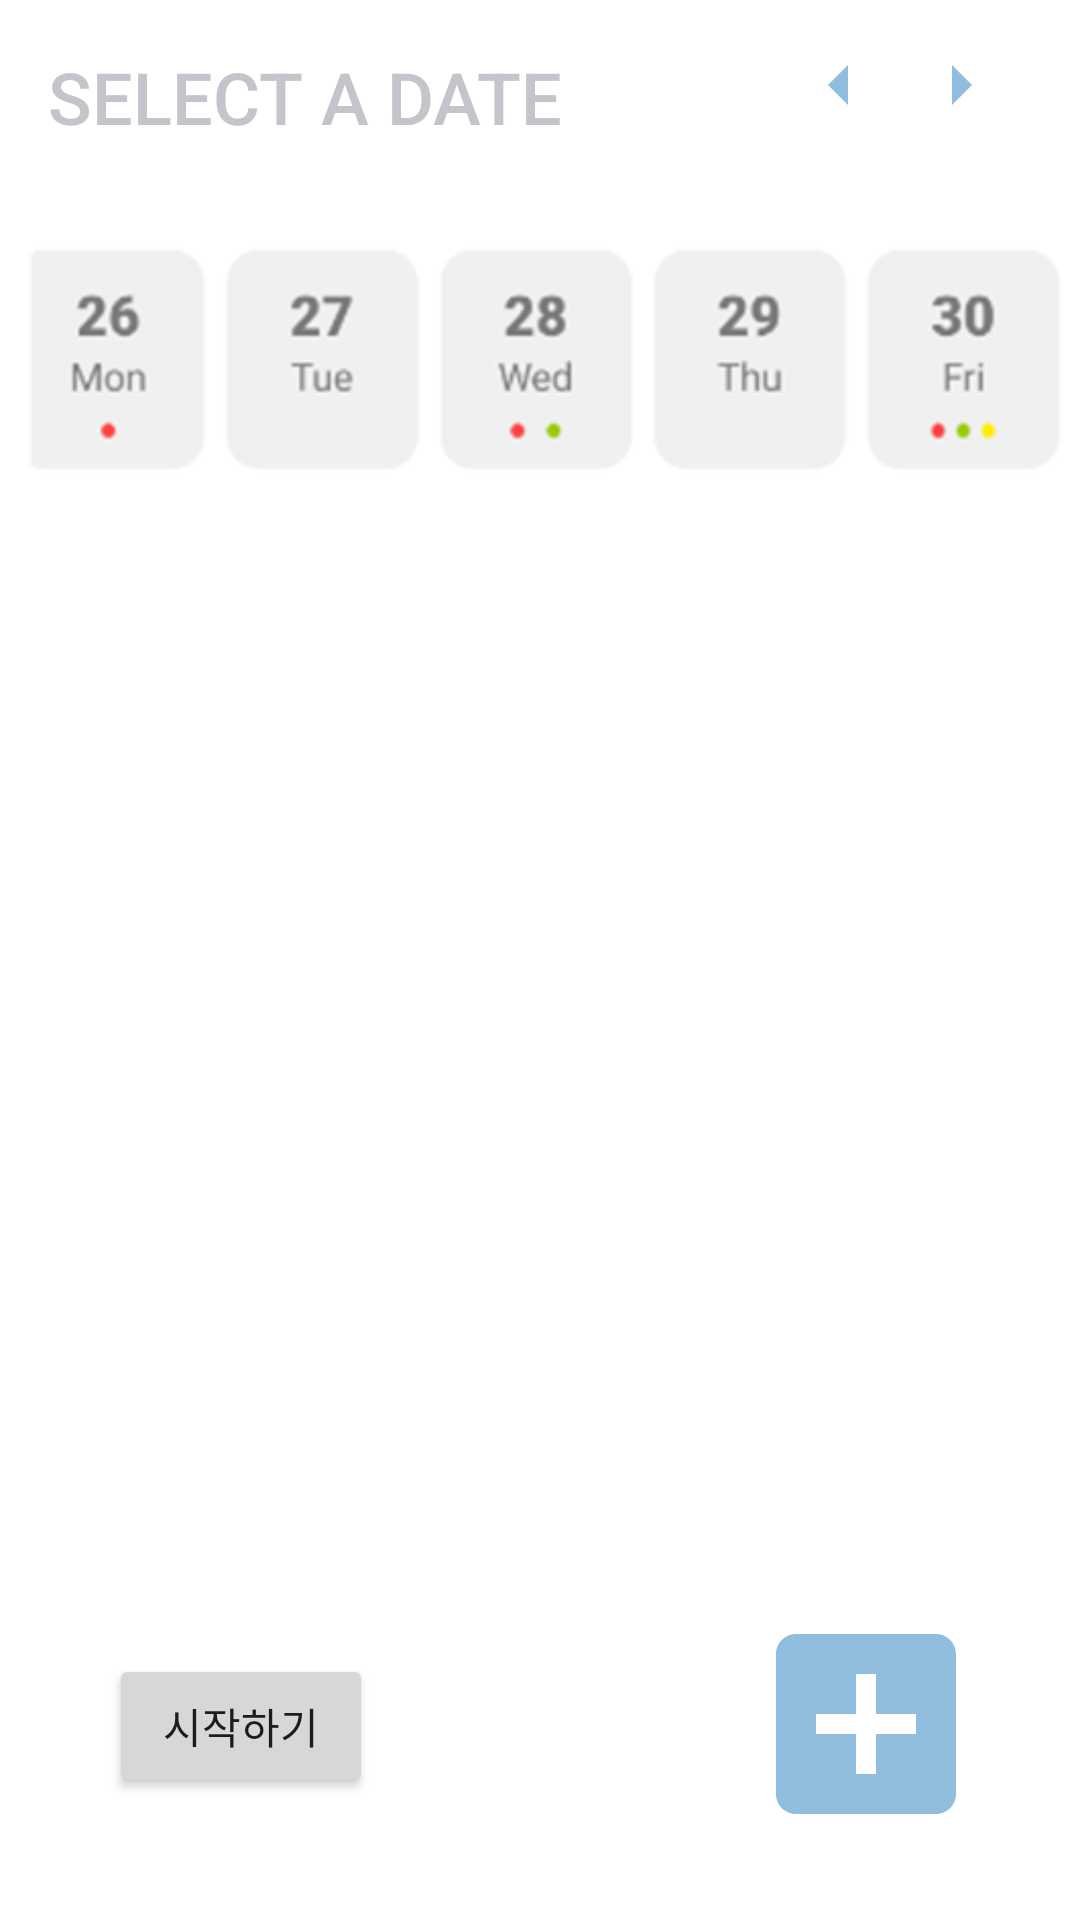

Where icons sit on this 1080 x 1920 app screen, as (x1, y1, x2, y2):
add box: (776, 1634, 956, 1814)
arrow left: (828, 65, 848, 105)
arrow right: (952, 65, 972, 105)
